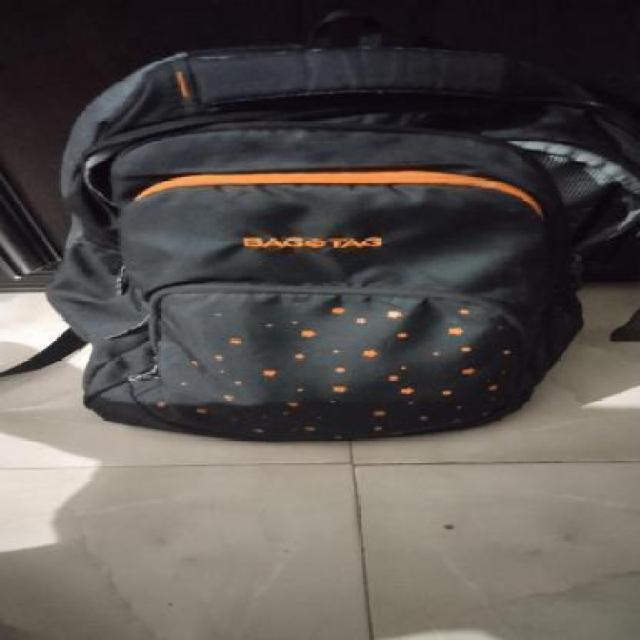backpack: (41, 3, 640, 444)
